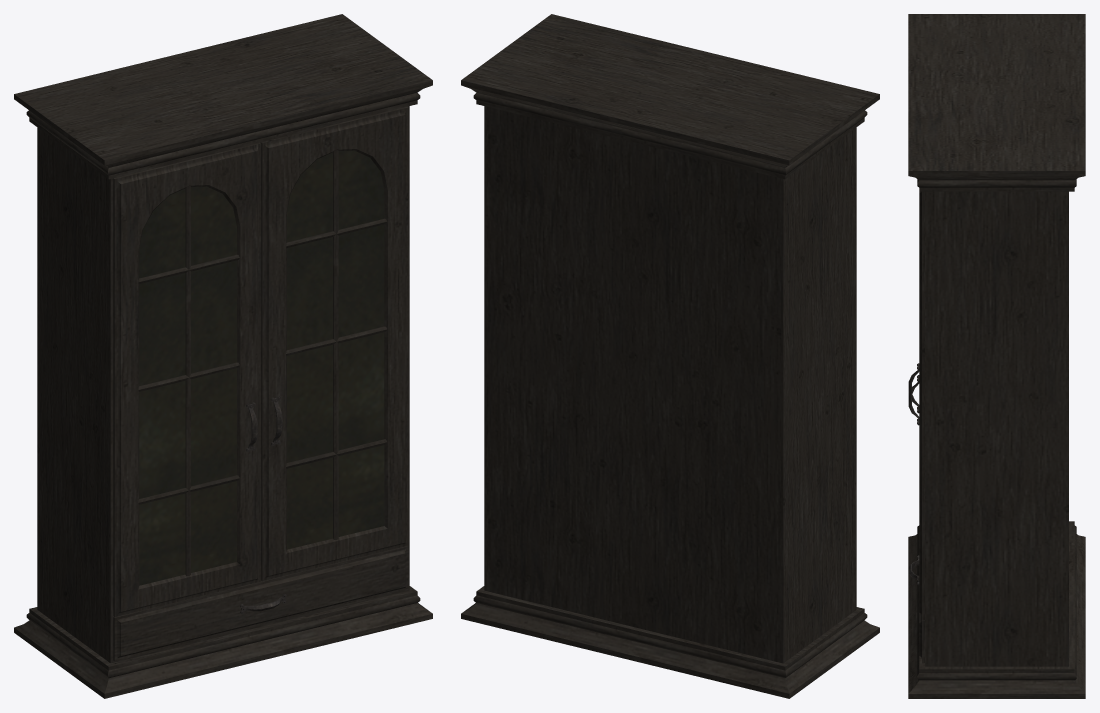
File: display_cabinet_mp_2.obj
The picture shows the model from 3 angles, left to right: view 1: azimuth 30°, elevation 25°; view 2: azimuth 150°, elevation 25°; view 3: azimuth 270°, elevation 25°; orthographic projection. The views are drawn at different scales.
Parts seen in each view (by area): view 1: display_cabinet_mp_2, display_cabinet_mp_2_door_1, display_cabinet_mp_2_door_2, display_cabinet_mp_2_drawer; view 2: display_cabinet_mp_2; view 3: display_cabinet_mp_2, display_cabinet_mp_2_door_2, display_cabinet_mp_2_drawer.
Boxes of the visible parts, x1,y1,x2,y2 form: display_cabinet_mp_2: (14, 14, 432, 698); display_cabinet_mp_2_door_1: (113, 142, 261, 617); display_cabinet_mp_2_door_2: (260, 106, 408, 581); display_cabinet_mp_2_drawer: (113, 546, 408, 661); display_cabinet_mp_2: (461, 14, 879, 698); display_cabinet_mp_2: (908, 14, 1085, 698); display_cabinet_mp_2_door_2: (908, 191, 924, 619); display_cabinet_mp_2_drawer: (908, 555, 924, 662).
Bounding box in the file's own units: 1.34 × 2.1 × 0.64.
